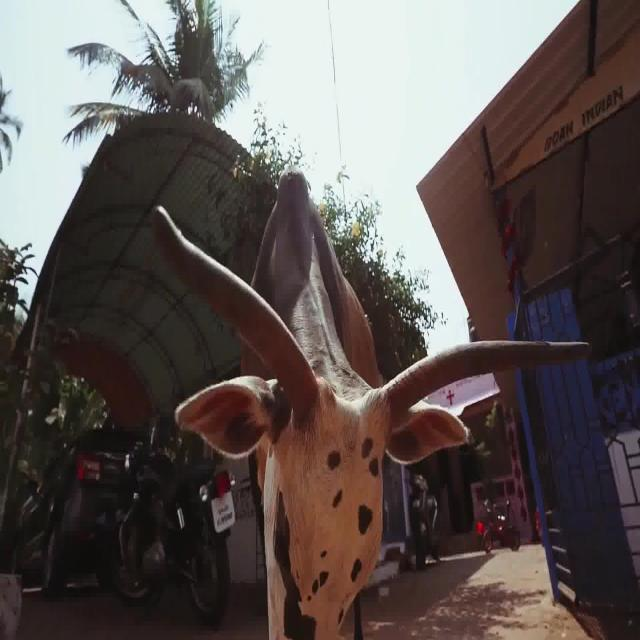cow: (152, 171, 589, 639)
